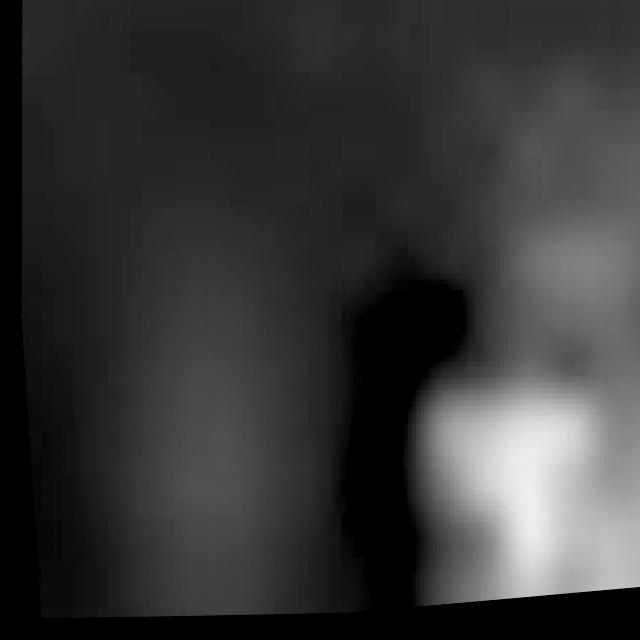person: (415, 123, 640, 613)
